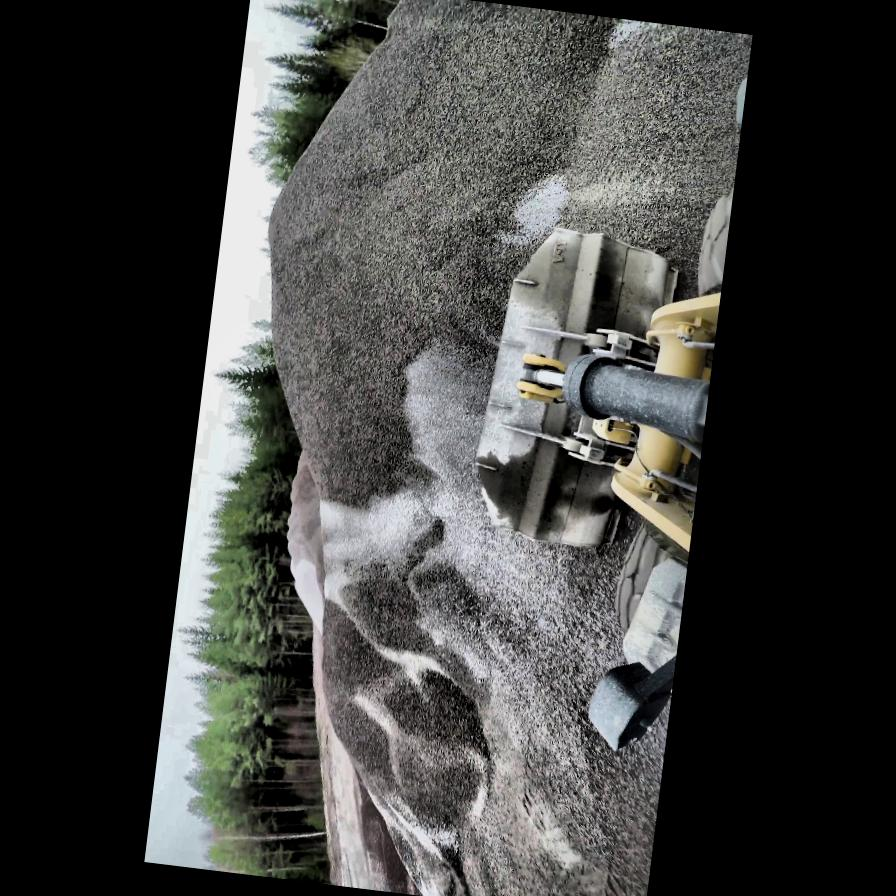anchor: (512, 343, 569, 408)
pile of gravel: (232, 0, 548, 521)
